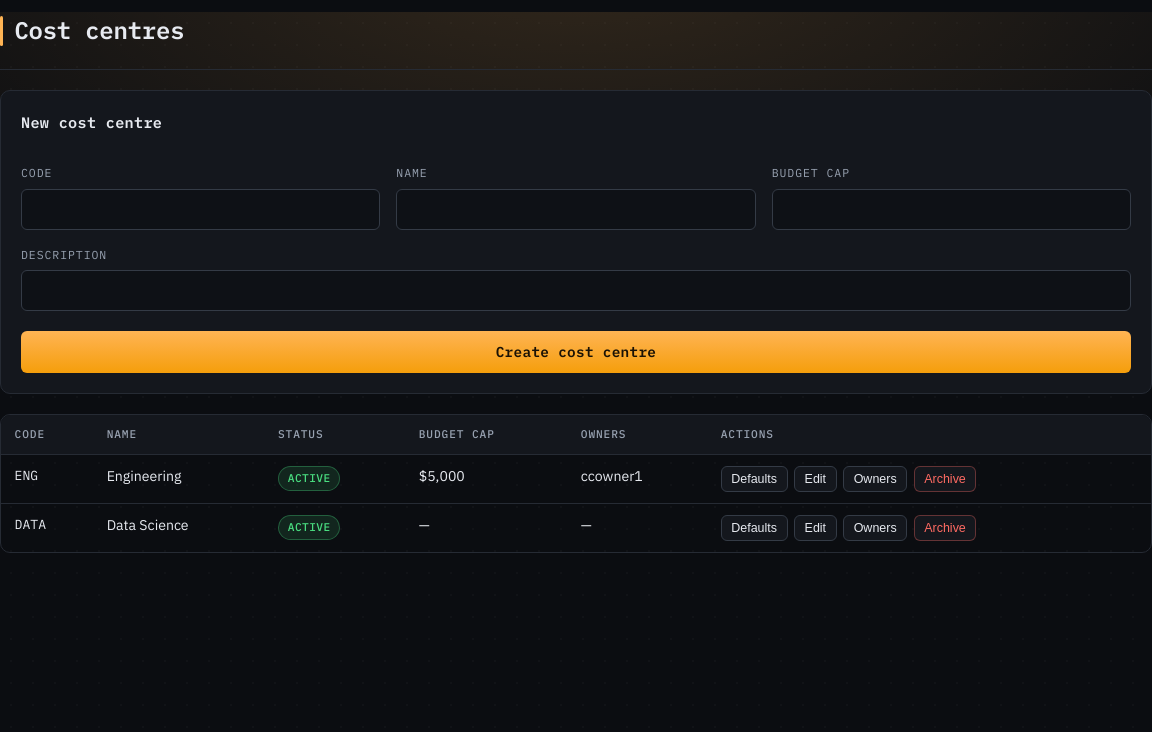
Test: CostCentresPage › surfaces a 409 duplicate-code error inline
Expected: the text "Engineering" is shown, [93,455,264,504]
Type "ENG" into the field labelled "Code" at (201, 209), box [21,189,380,230]
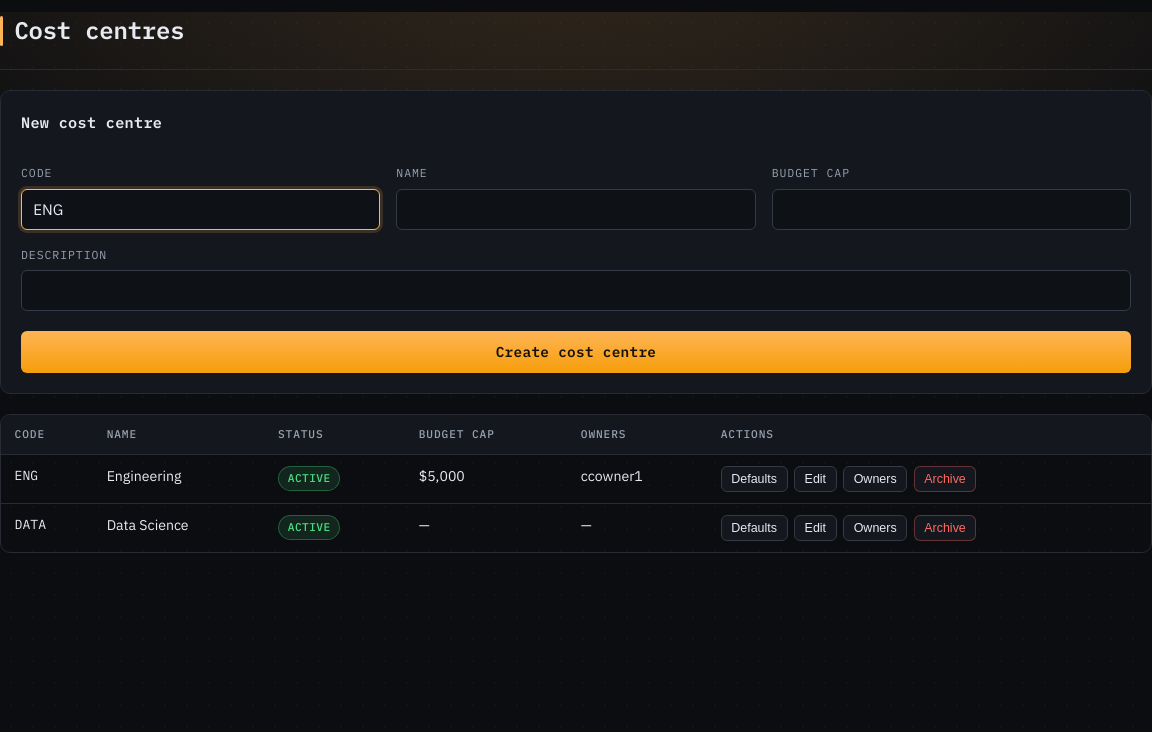
Type "Engineering dup" into the field labelled "Name" at (576, 209), box [396,189,756,230]
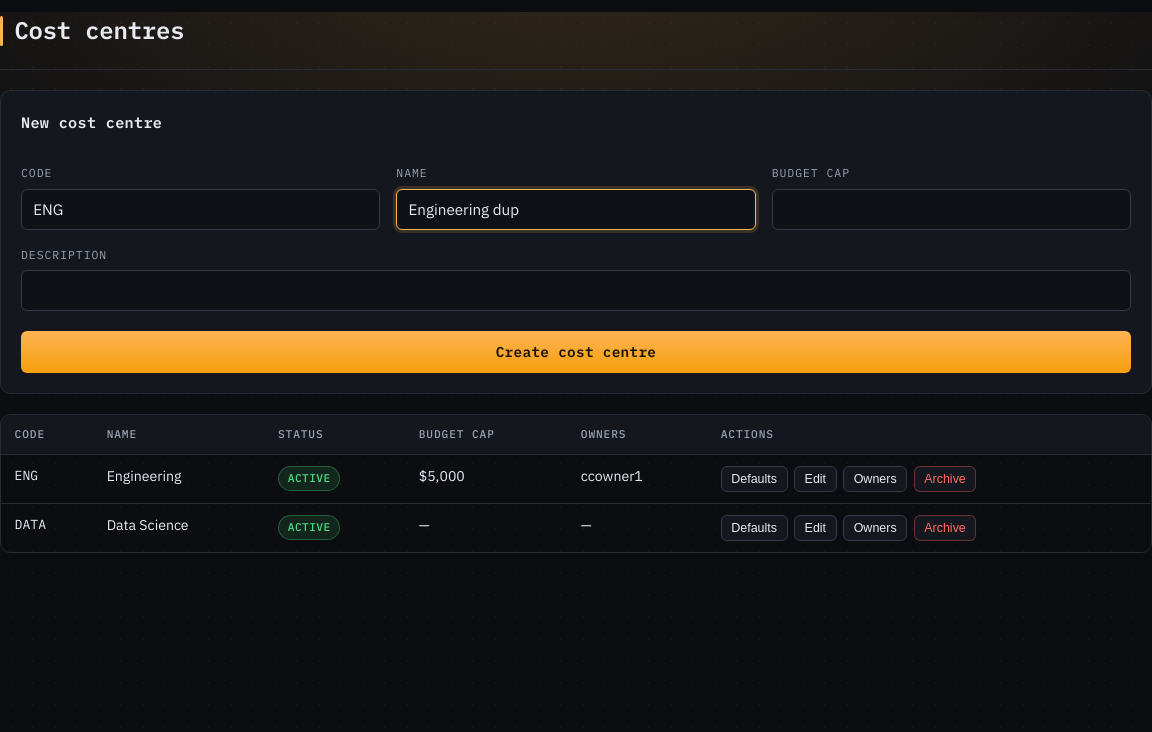
Click the button "Create cost centre" at (576, 352), box [21,331,1131,373]
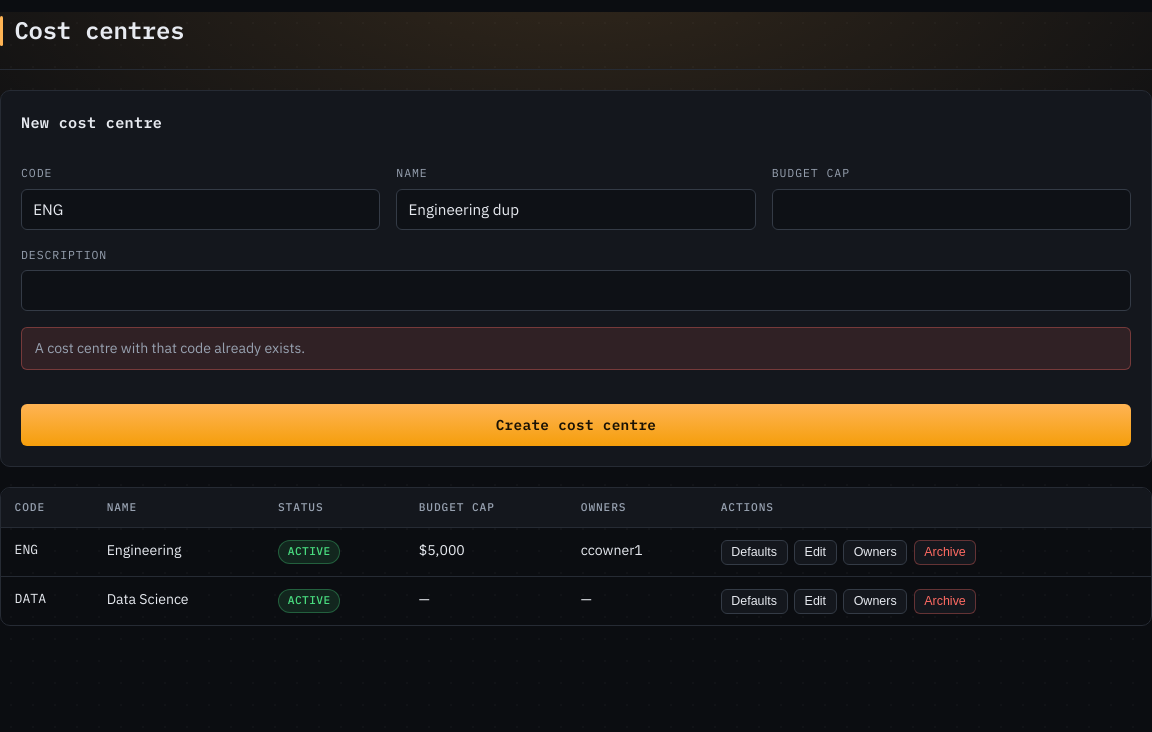
Expected: the message shows "code already exists", [35,339,305,357]
